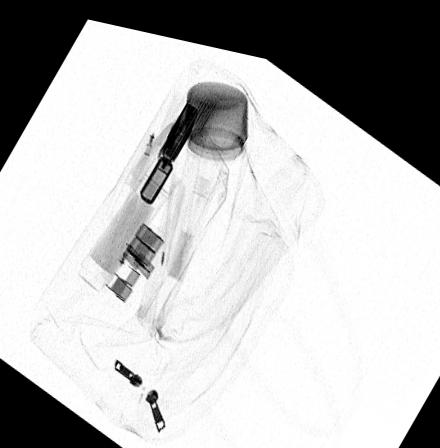Lighter: (137, 93, 198, 198)
